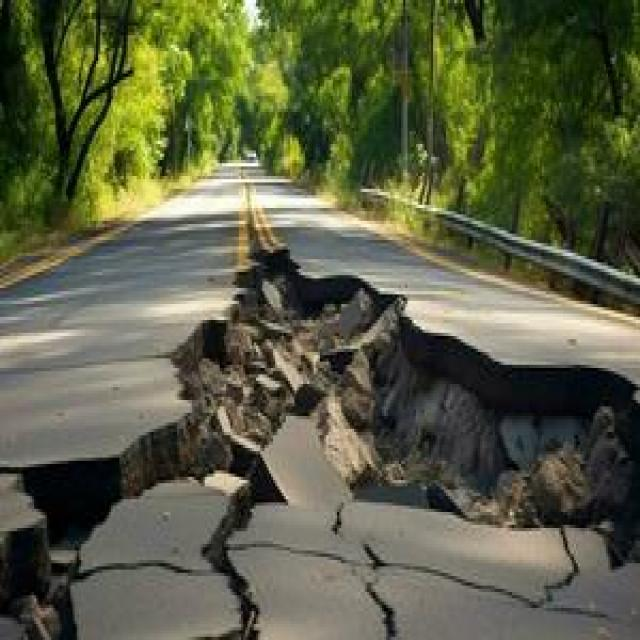road collapse: (38, 141, 640, 637)
